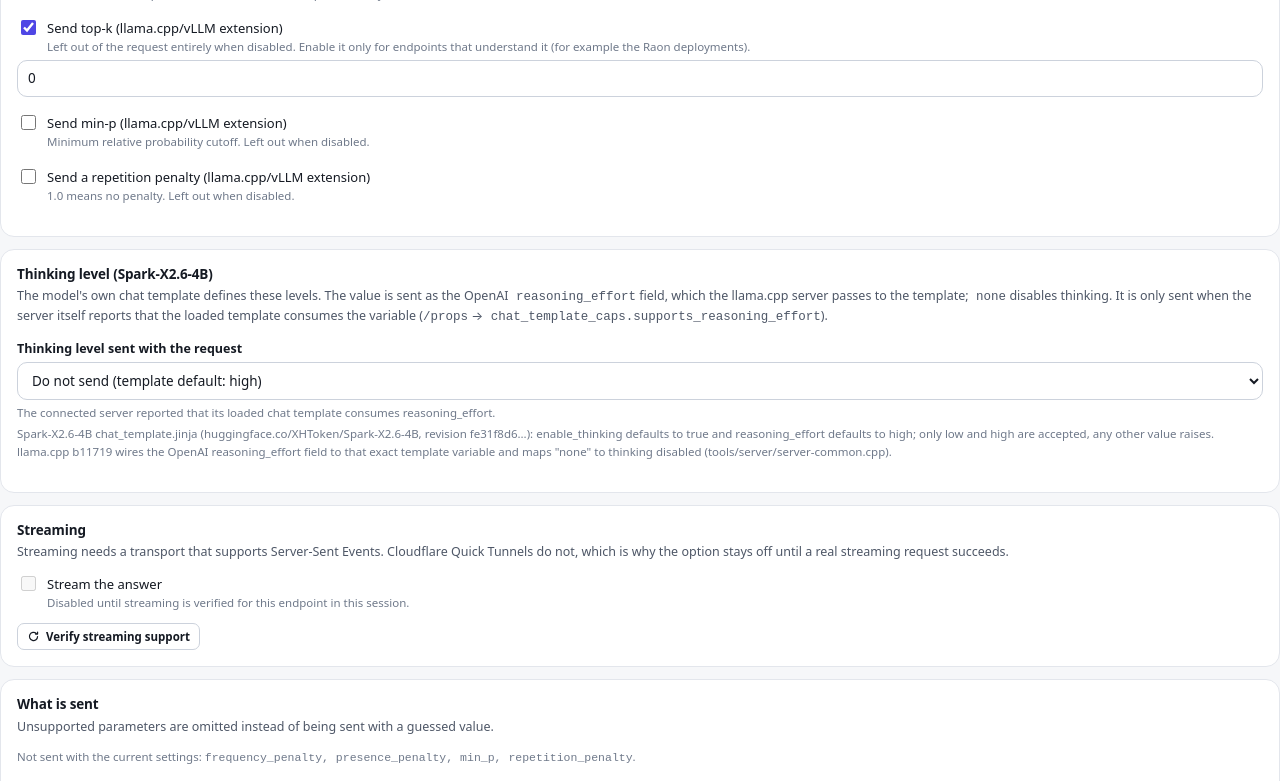
Test: InferenceSettings model-specific thinking control › does not send reasoning_effort for a valid level in the request preview
The image size is (1280, 781).
(page scrolled)
Select "low" in the dropdown labelled "Thinking level sent with the request" at (640, 381), box top-left (17, 362), bottom-right (1263, 400)
(page scrolled)
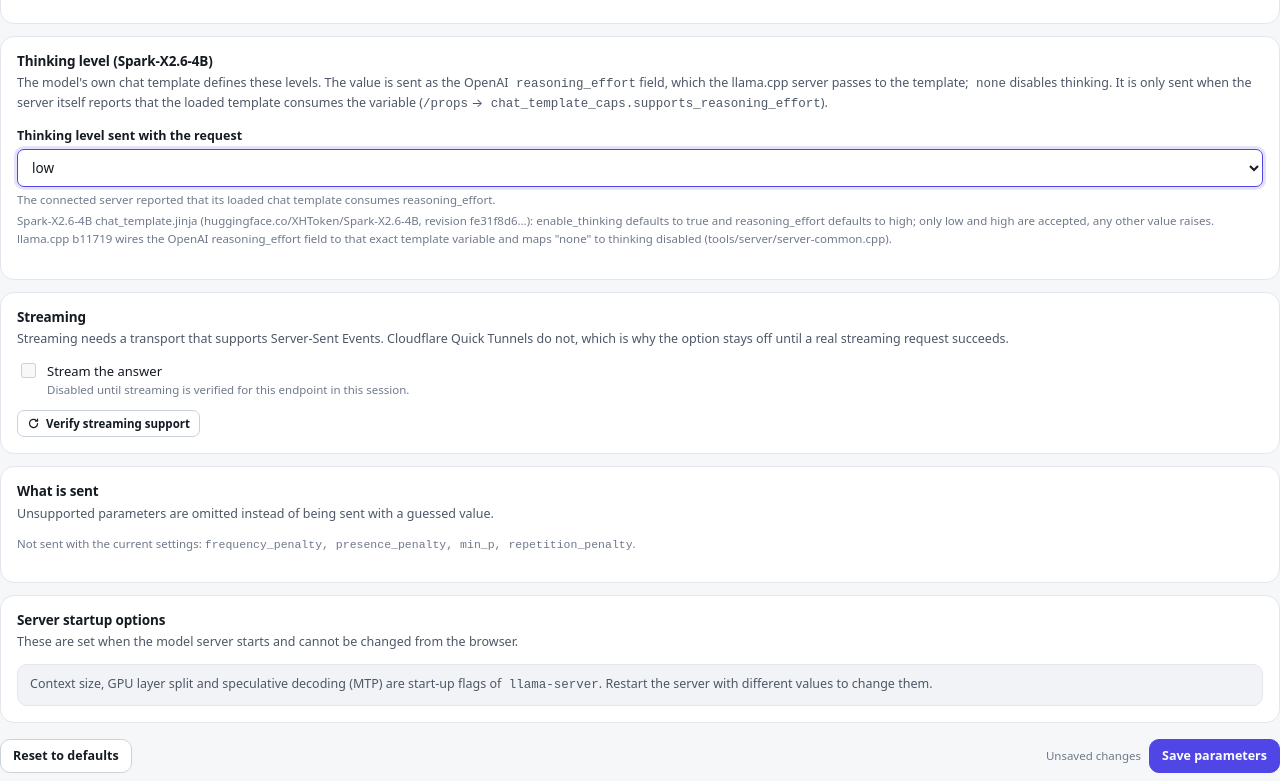
Expected: the text "Not sent with the current settings" does not show "reasoning_effort"
Now the text "Unsaved changes" is shown, box top-left (1046, 747), bottom-right (1141, 765)
